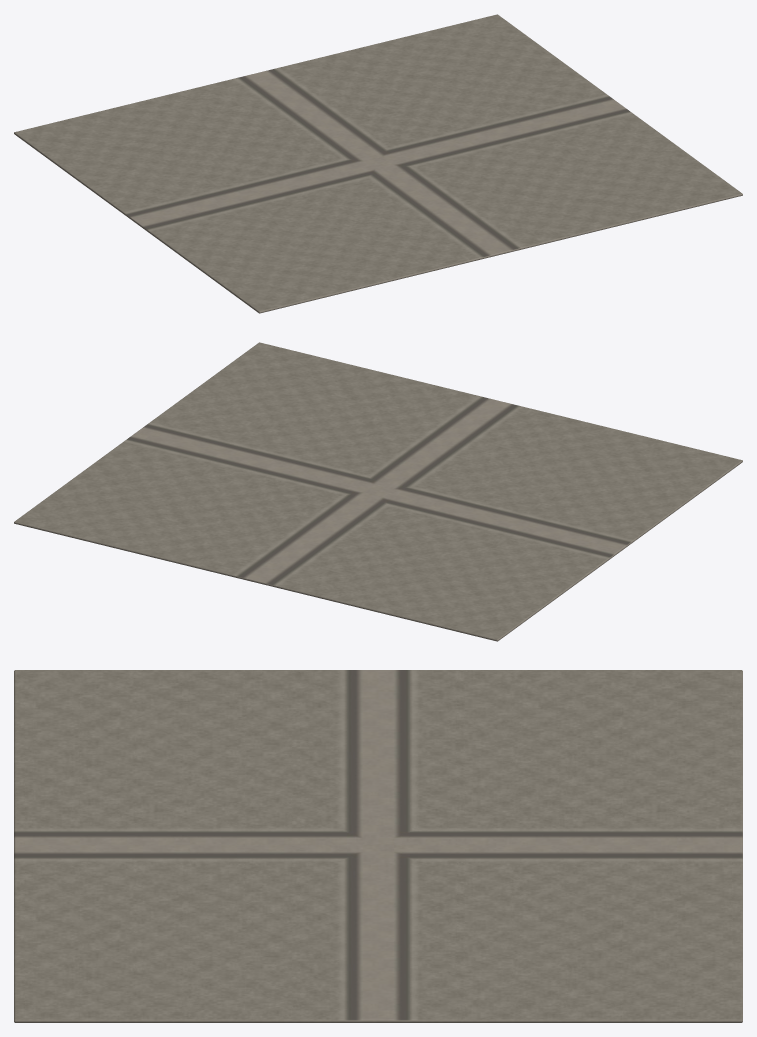
Rendered from master_rug.glb.
The picture shows the model from 3 angles, top to bottom: view 1: azimuth 30°, elevation 25°; view 2: azimuth 150°, elevation 25°; view 3: azimuth 270°, elevation 25°; orthographic projection. The views are drawn at different scales.
Visible parts, largest first — view 1: master_rug; view 2: master_rug; view 3: master_rug.
Boxes of the visible parts, bbox=[...] form: master_rug: bbox=[14, 14, 742, 313]; master_rug: bbox=[14, 342, 742, 641]; master_rug: bbox=[14, 670, 742, 1022].
Bounding box in the file's own units: 3.3 × 0.014 × 2.9.
Materials: 1 (1 with a texture image).
